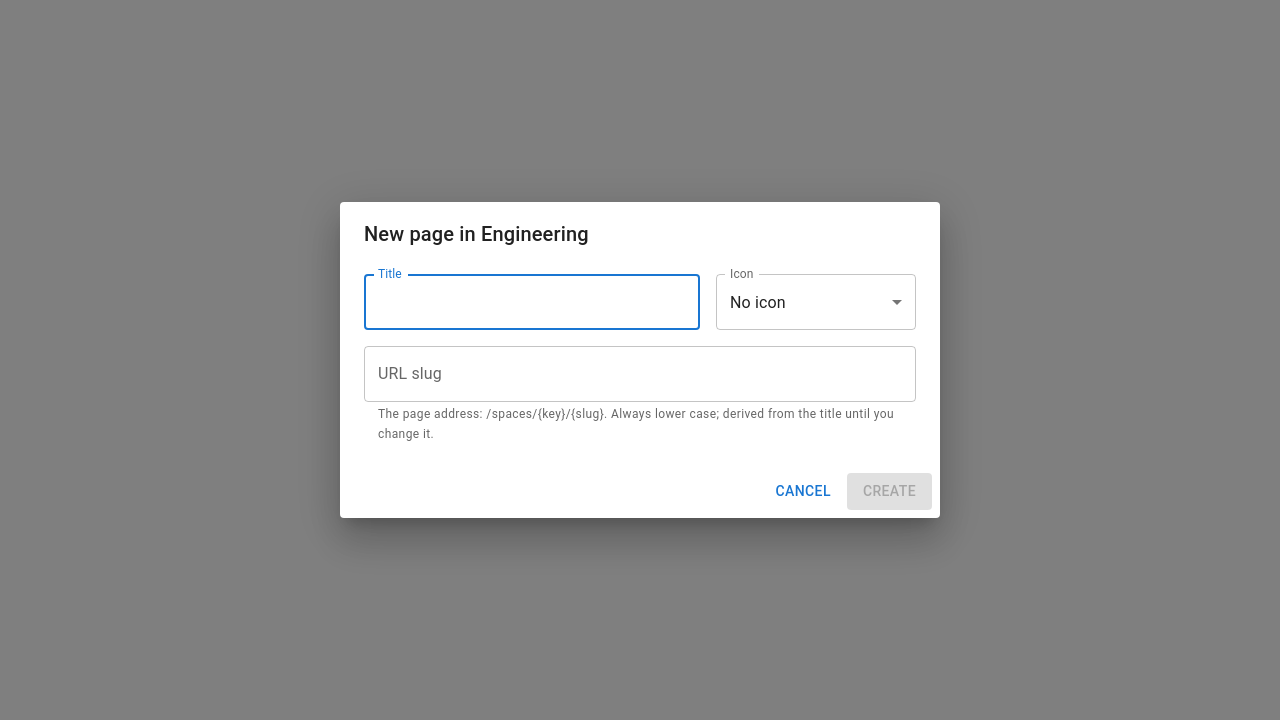
CreatePageDialog › refuses a title that slugifies to nothing, and says what to do
This screenshot has width=1280, height=720.
In the field labelled "Title": (532, 302) x1=364 y1=274 x2=700 y2=330, type "???"
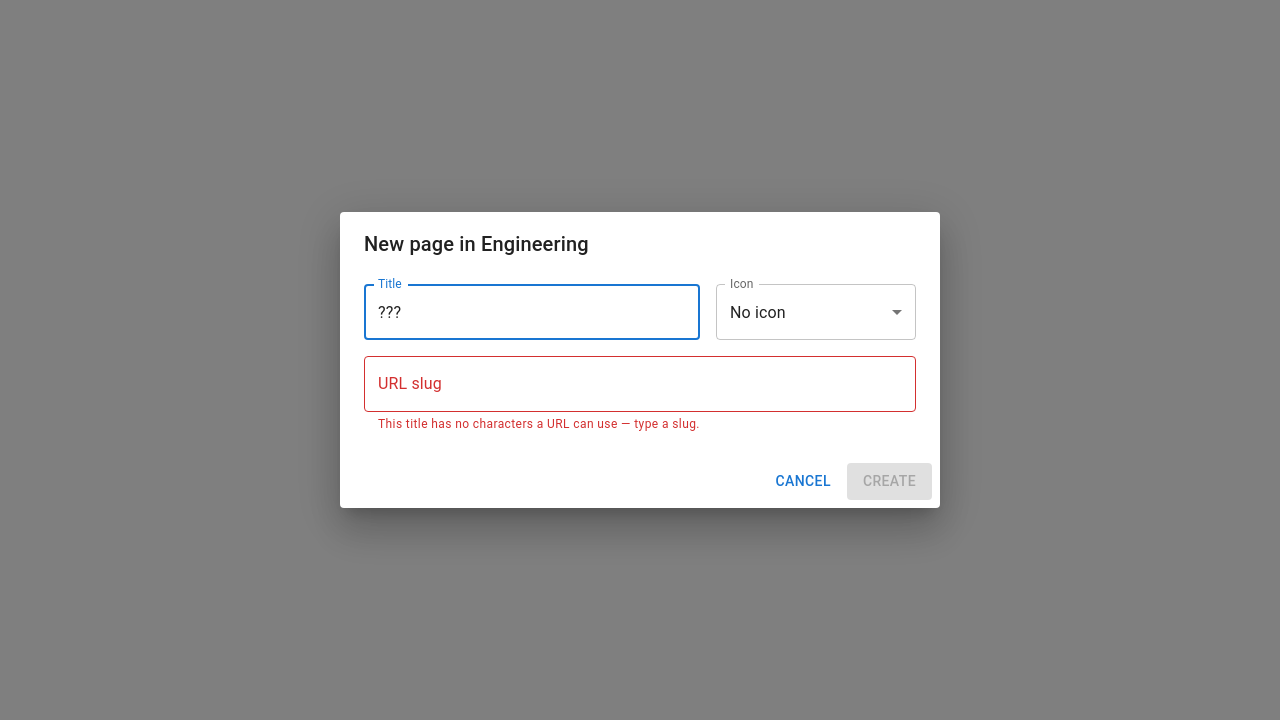
Expected: the button "Create" is disabled, x1=847 y1=463 x2=932 y2=500
Result: the text "This title has no characters a URL can use — type a slug." is shown at x1=378 y1=417 x2=700 y2=431
